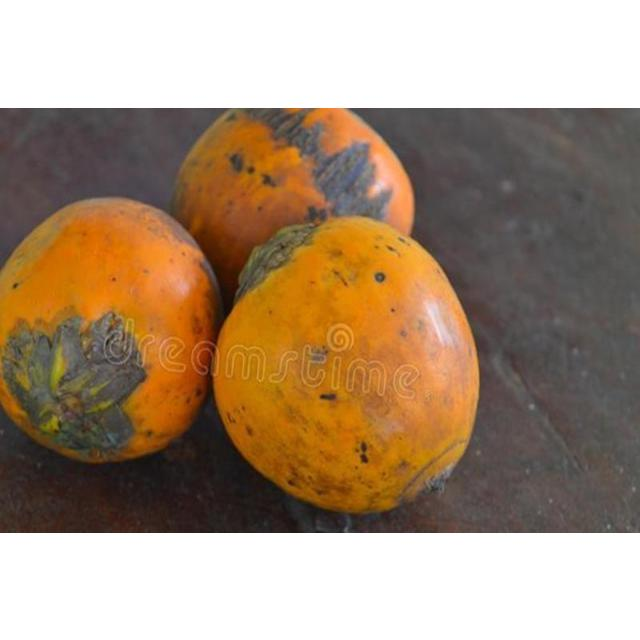good: (211, 216, 480, 516), (0, 196, 229, 466), (172, 107, 415, 263)
